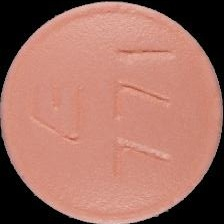68084-487: (0, 0, 224, 224)
